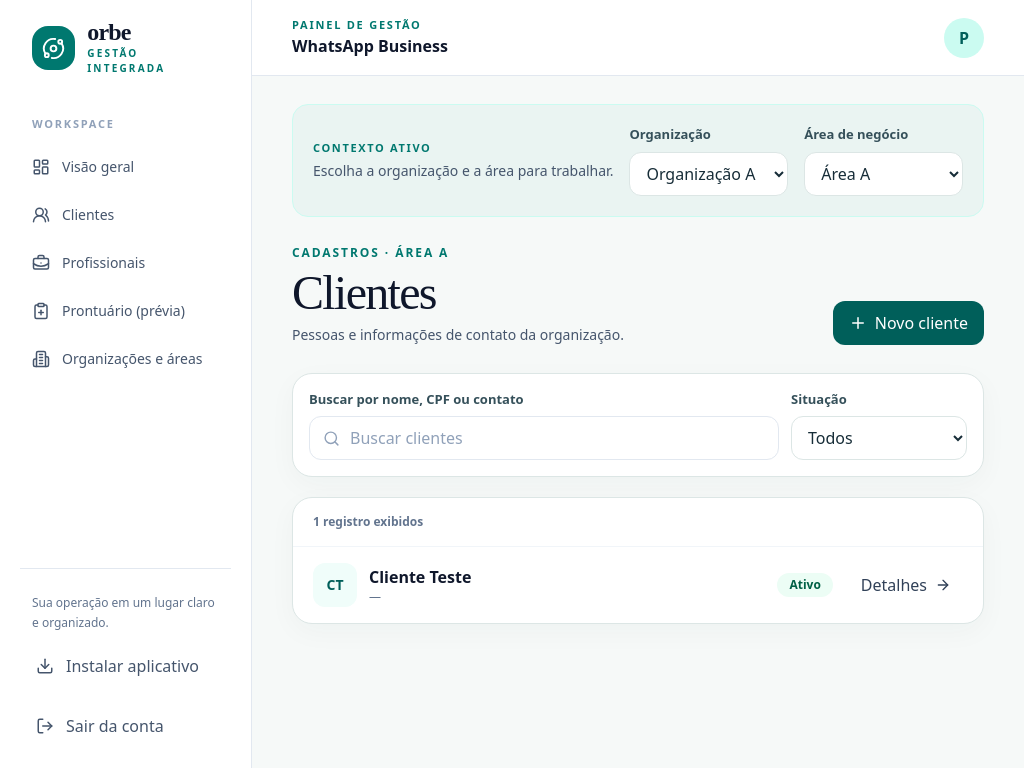
WhatsApp Business › registra e revoga consentimento no detalhe do cliente com confirmação explícita
This screenshot has width=1024, height=768.
Click the button with aria-label "Ver detalhes de Cliente Teste" at [906, 585], box [849,563,963,607]
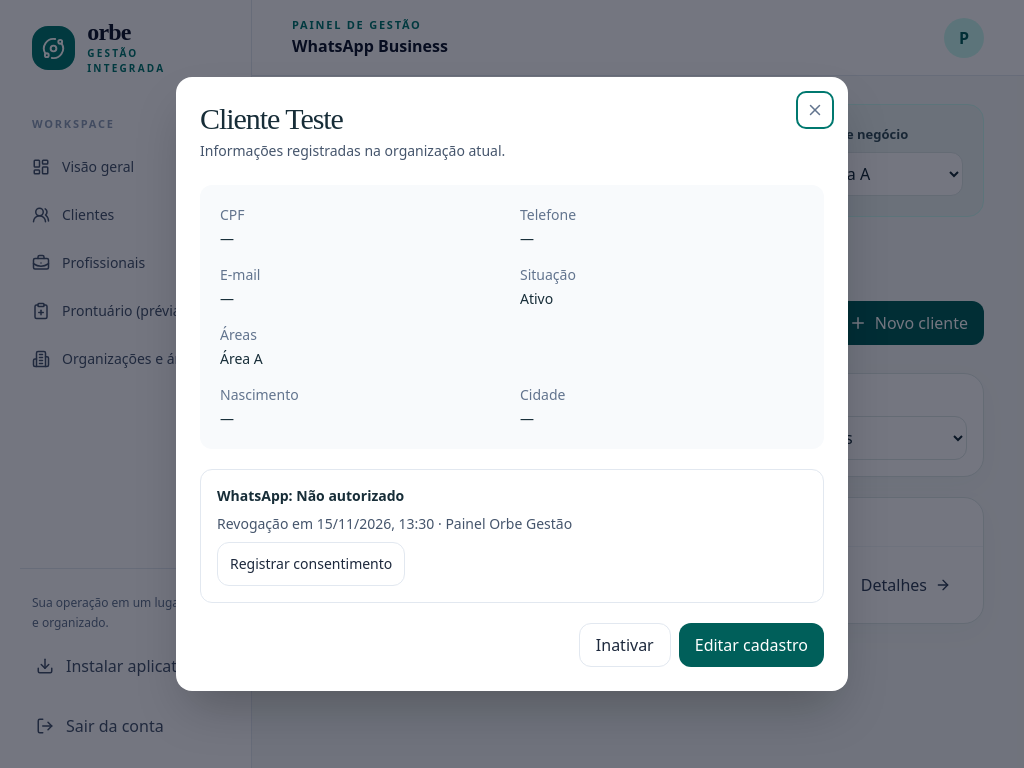
Result: the heading "WhatsApp: Não autorizado" is shown at [217,486,404,505]
Click the button "Registrar consentimento" at [311, 564], box [217,542,405,586]
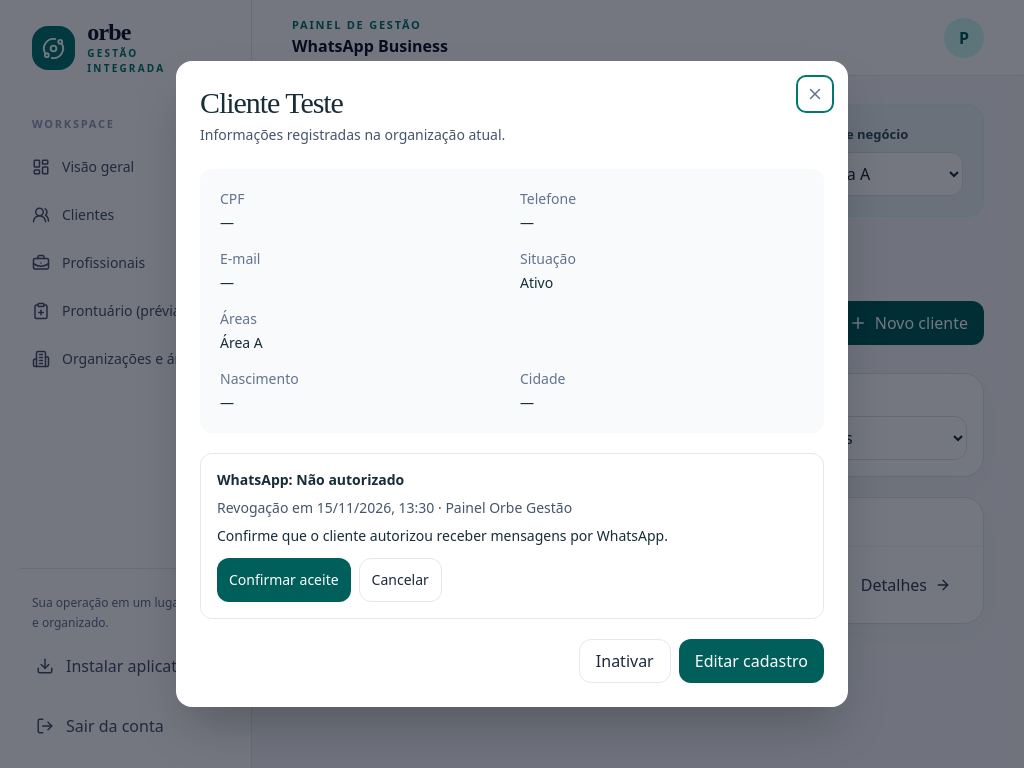
Click the button "Confirmar aceite" at [284, 580], box [217,558,351,602]
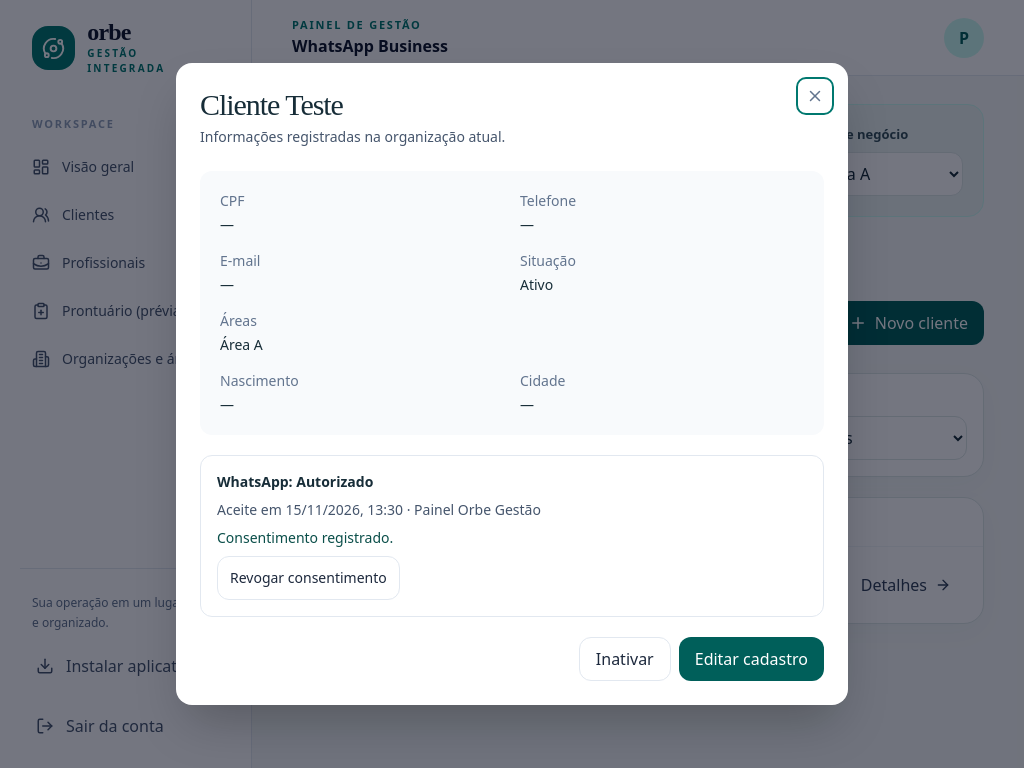
Result: the heading "WhatsApp: Autorizado" is shown at [217,472,373,491]
Click the button "Revogar consentimento" at [308, 578], box [217,556,400,600]
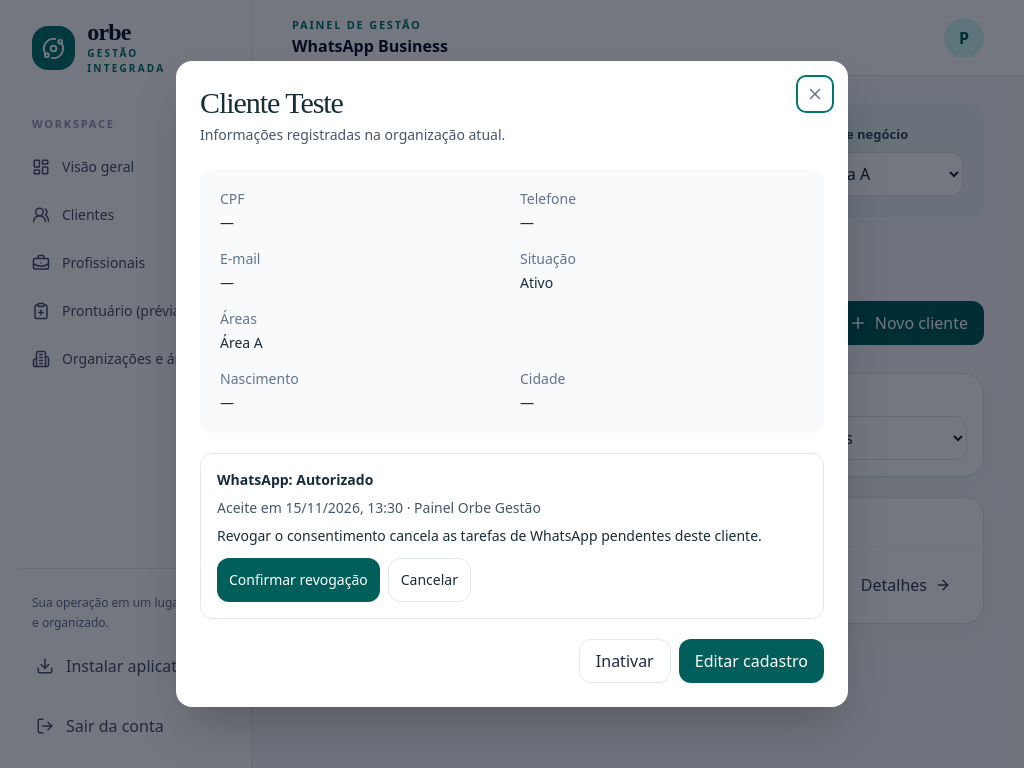
Click the button "Confirmar revogação" at [298, 580], box [217,558,380,602]
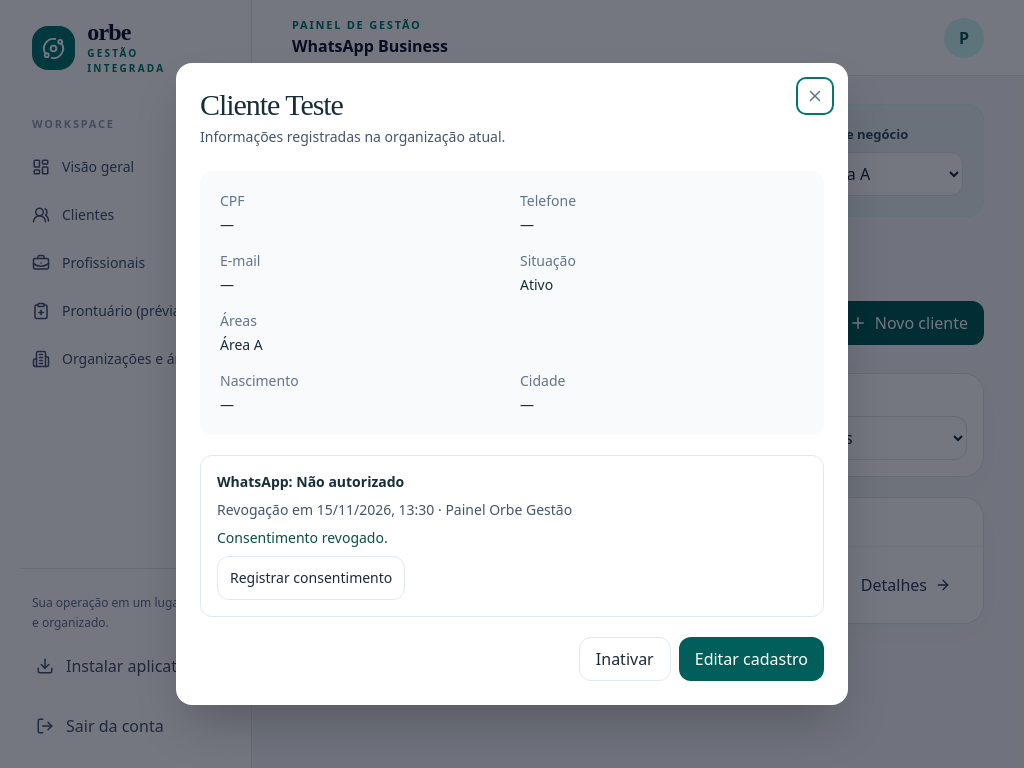
Result: the text "Consentimento revogado." is shown at [217,528,388,547]
Result: the heading "WhatsApp: Não autorizado" is shown at [217,472,404,491]
